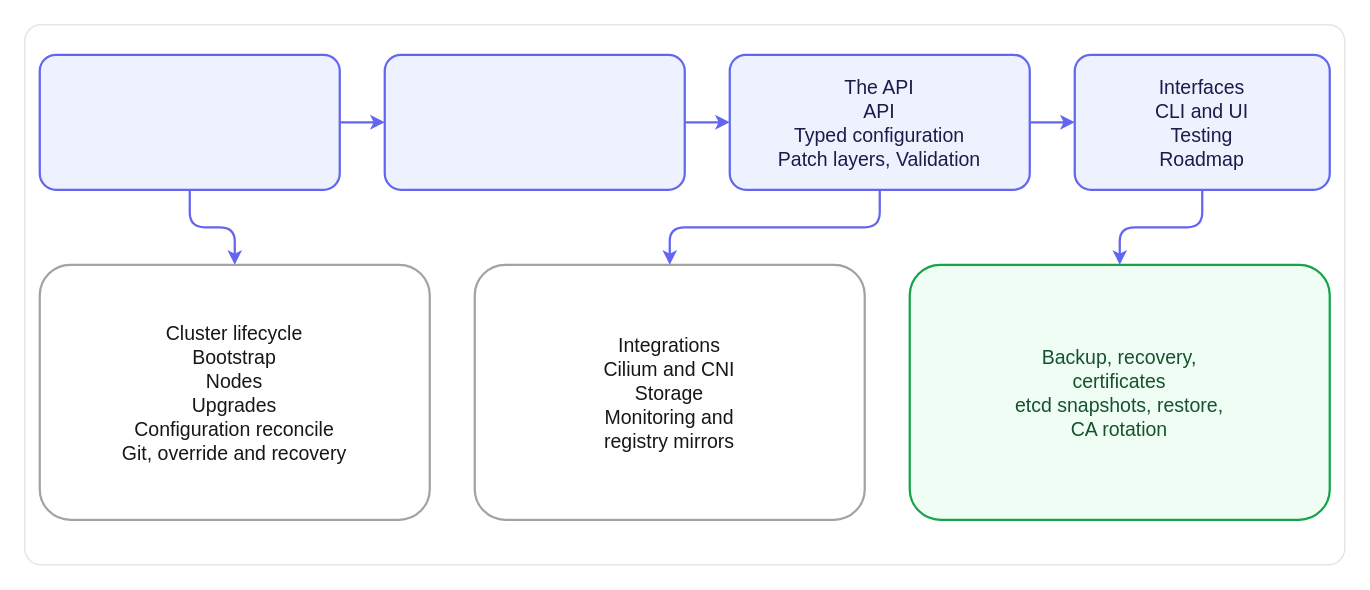
Image size: 1370x590. Some labels were removed from this diagram. The shapes that lost their labels are listed below. From the top down, each one's centre as x and y in pixels, then its label:
At pixel 189 121: "Why Motivation Principles Alternatives considered".
At pixel 534 121: "Who and where Overview Trust Deployment".
